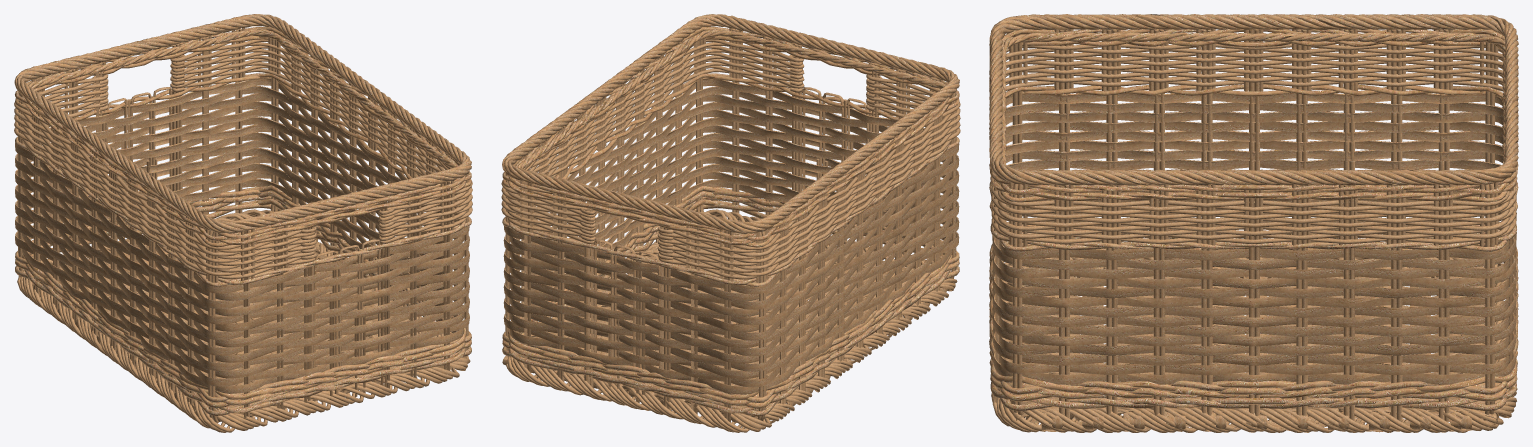
The model's file is bekna_kosz_10513392.glb.
3 views of the same model, side by side, from view 1: azimuth 30°, elevation 25°; view 2: azimuth 150°, elevation 25°; view 3: azimuth 270°, elevation 25° (orthographic). The views are drawn at different scales.
Parts seen in each view (by area): view 1: bekna_kosz_10513392; view 2: bekna_kosz_10513392; view 3: bekna_kosz_10513392.
Boxes of the visible parts, left/top/right/bottom form: bekna_kosz_10513392: left=14, top=14, right=472, bottom=432; bekna_kosz_10513392: left=501, top=14, right=960, bottom=432; bekna_kosz_10513392: left=989, top=14, right=1518, bottom=432.
Size of the model in its own units: 0.2626 by 0.1994 by 0.361.
Materials: 1 (1 with a texture image).
